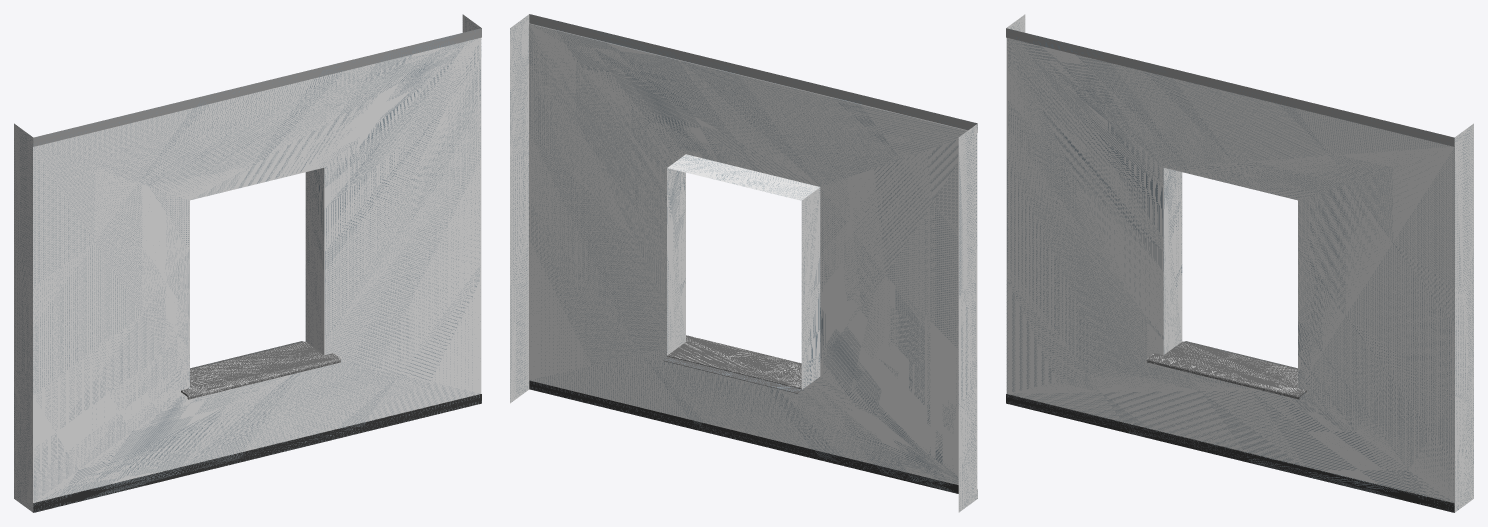
File: WindowBlock_os_plinth_[500x400]_150x200x[090].dae
The picture shows the model from 3 angles, left to right: view 1: azimuth 30°, elevation 25°; view 2: azimuth 150°, elevation 25°; view 3: azimuth 330°, elevation 25°; orthographic projection.
Parts seen in each view (by area): view 1: group_2 (×4), group_1; view 2: group_2 (×4), group_1 (×2); view 3: group_2 (×4), group_1.
Part boxes in pixels (x1,y1,x2,y2): group_2 (×4): (14,14,481,512); group_1: (181,341,340,399); group_2 (×4): (510,14,977,512); group_1 (×2): (663,335,801,393); group_2 (×4): (1006,14,1473,512); group_1: (1146,341,1306,399).
Size of the model in its own units: 197 by 23.03 by 157.
